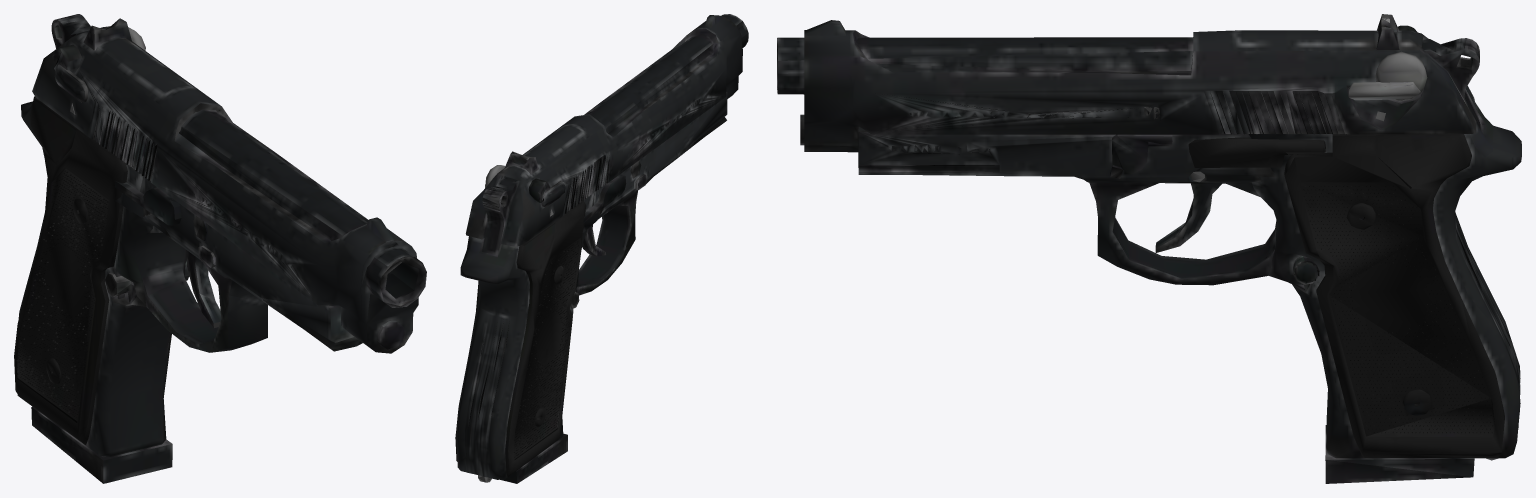
File: h5_grey.glb
3 views of the same model, side by side, from view 1: azimuth 30°, elevation 25°; view 2: azimuth 150°, elevation 25°; view 3: azimuth 270°, elevation 25° (orthographic). The views are drawn at different scales.
Visible parts, largest first — view 1: body; view 2: body; view 3: body.
Part boxes in pixels (x1,y1,x2,y2): body: (14, 14, 426, 483); body: (455, 14, 748, 483); body: (777, 14, 1521, 483).
Size of the model in its own units: 0.0292 by 0.1319 by 0.2.
1 material, 1 textured.
